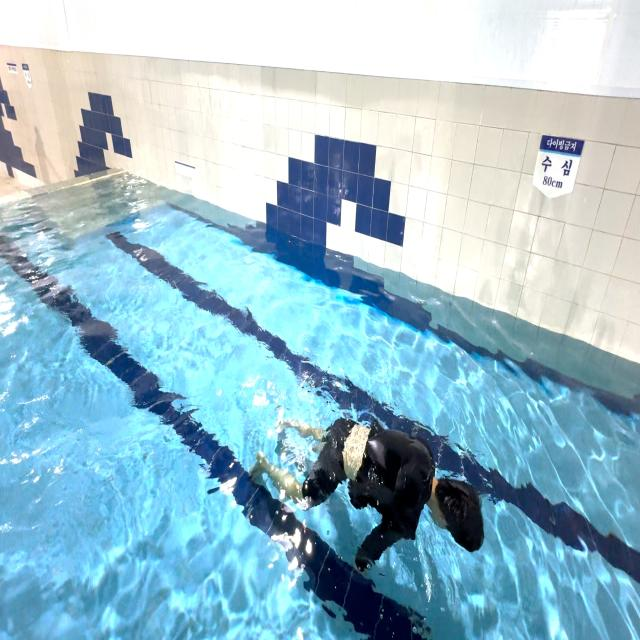Drowning: (248, 399, 486, 594)
